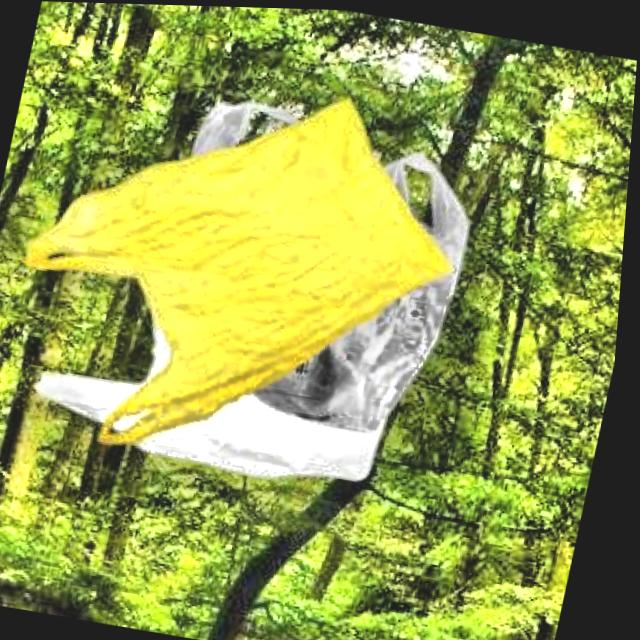Plastic: (0, 29, 504, 508), (15, 43, 503, 517)
